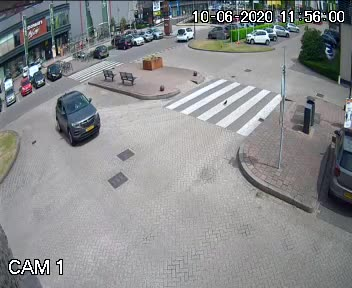car: (55, 85, 100, 145), (172, 26, 201, 47)
